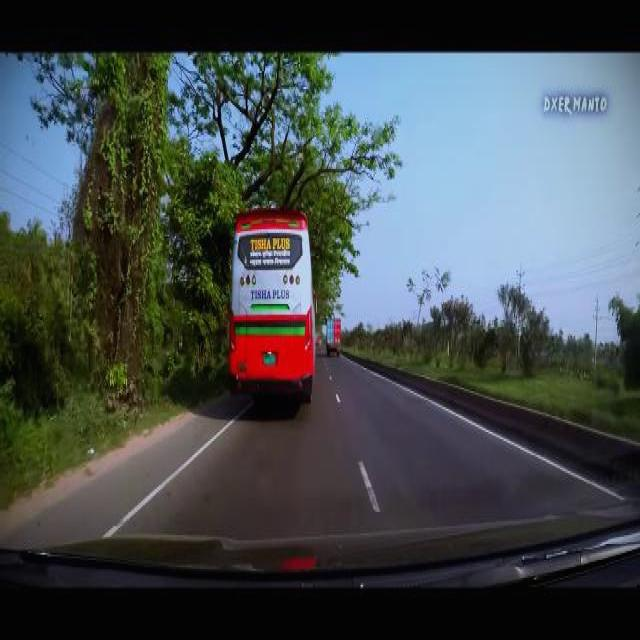BUS: (226, 211, 324, 420)
